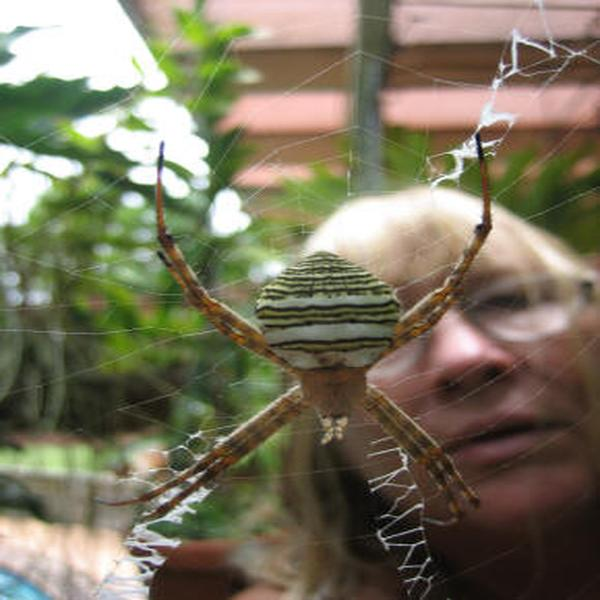St Andrew's Cross Spider: (101, 144, 494, 541)
